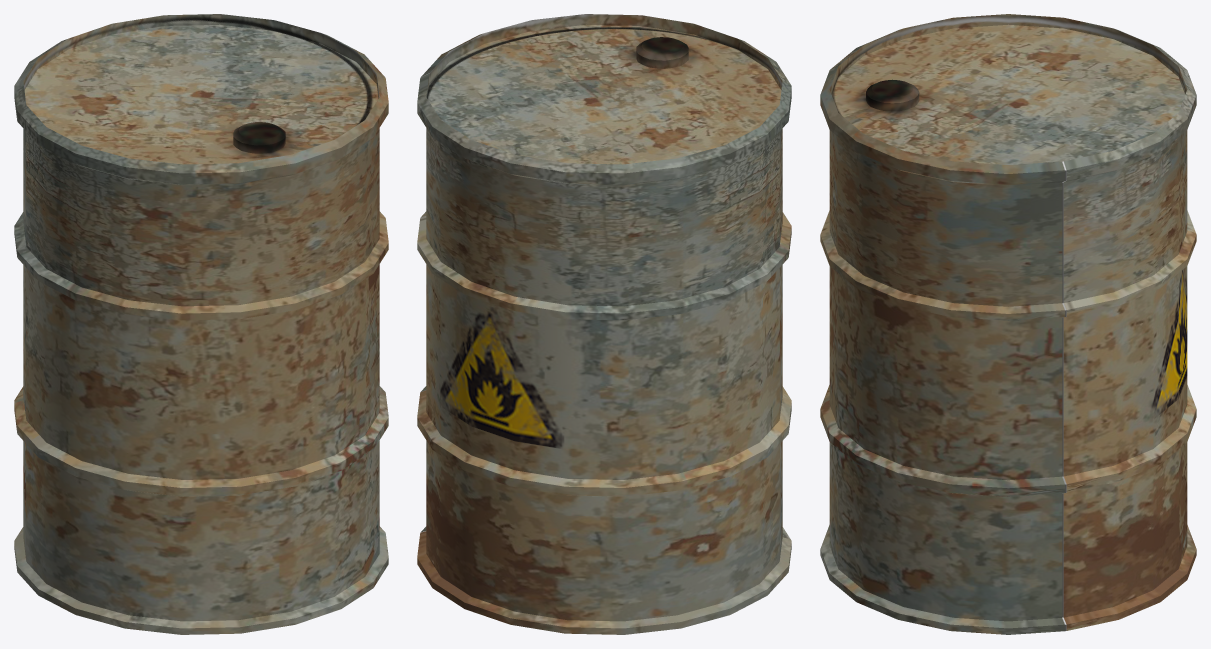
Rendered from barrer.fbx.
3 renders of one model, left to right at view 1: azimuth 30°, elevation 25°; view 2: azimuth 150°, elevation 25°; view 3: azimuth 270°, elevation 25°, orthographic.
Parts seen in each view (by area): view 1: pCylinder1; view 2: pCylinder1; view 3: pCylinder1.
Part boxes in pixels (x1,y1,x2,y2): pCylinder1: [14, 14, 388, 634]; pCylinder1: [417, 14, 791, 634]; pCylinder1: [820, 14, 1196, 634].
Bounding box in the file's own units: 38.3 × 52.8 × 38.3.
